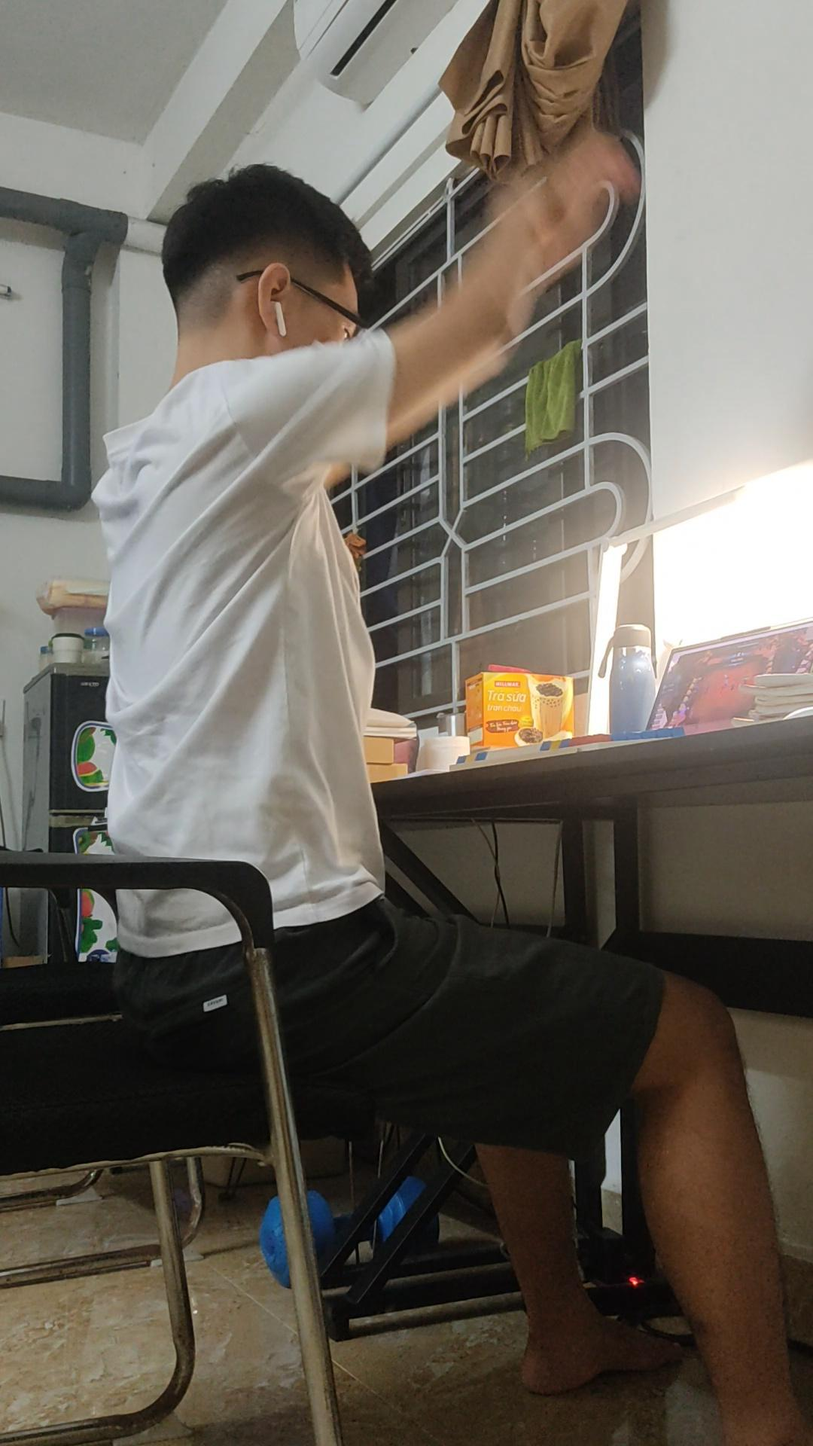GoodPosture: (94, 133, 813, 1445)
